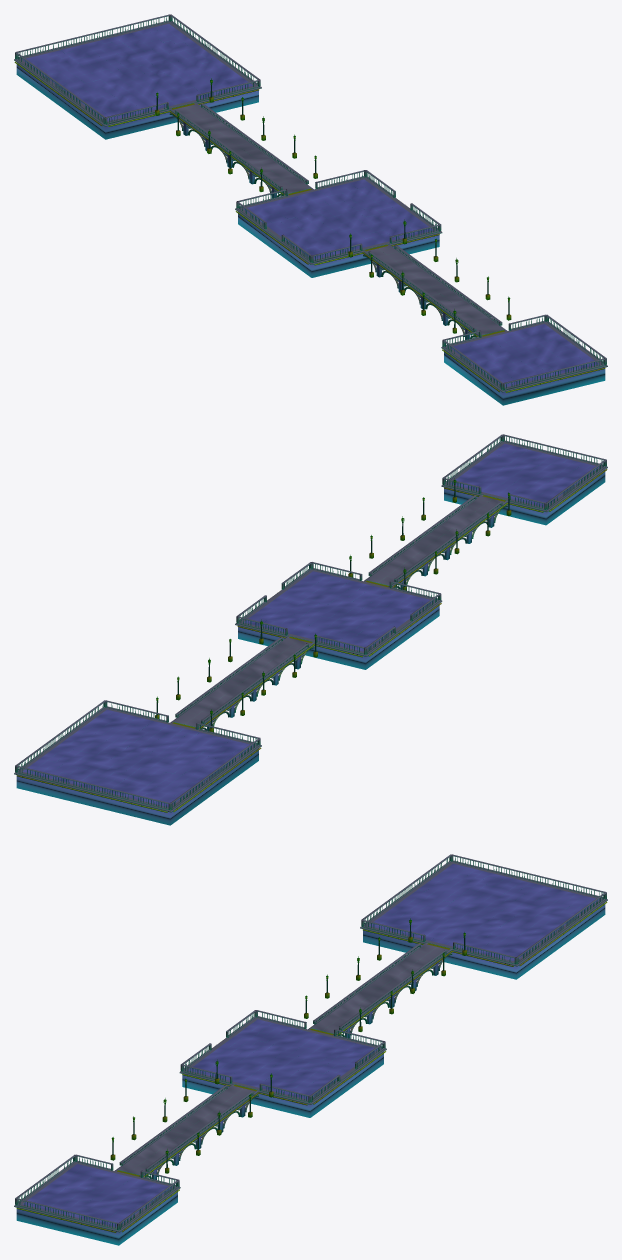
File: ansedra_walks_n.glb
3 renders of one model, top to bottom at view 1: azimuth 30°, elevation 25°; view 2: azimuth 150°, elevation 25°; view 3: azimuth 330°, elevation 25°, orthographic.
Parts seen in each view (by area): view 1: ansedra_walks_n; view 2: ansedra_walks_n; view 3: ansedra_walks_n.
Part boxes in pixels (bbox=[...]): ansedra_walks_n: bbox=[14, 14, 607, 405]; ansedra_walks_n: bbox=[14, 434, 607, 825]; ansedra_walks_n: bbox=[14, 854, 607, 1245].
Size of what is drawn, in the model's own units: 24.79 by 5.66 by 125.
